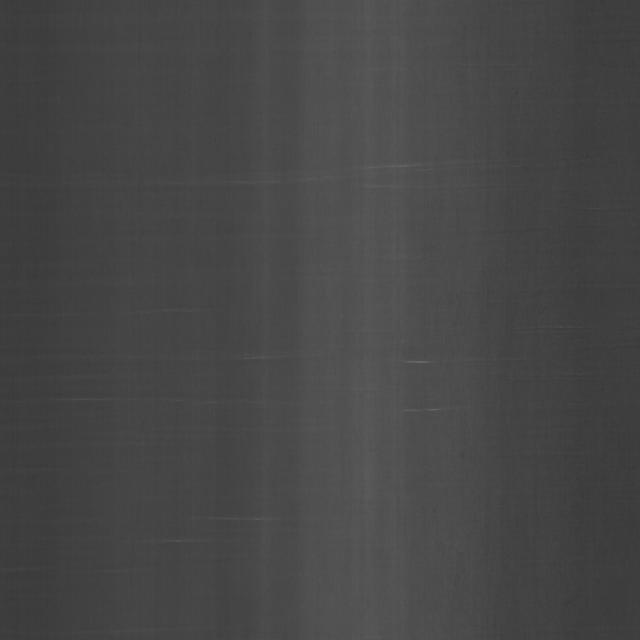punching_hole: (242, 74, 434, 433)
